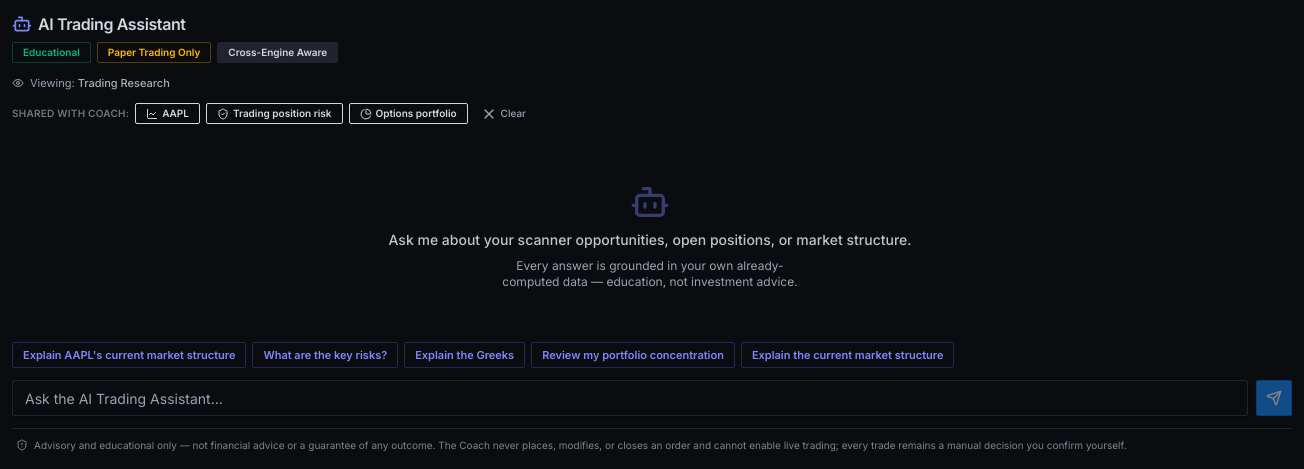
Test: TradingCoachWorkspace — context display and removal › clicking Clear in the context panel removes the optional focus (and its chip)
expect the element with test id "trading-coach-context-chip-symbol" is shown: met, box [135,103,200,124]
Click the button with test id "button-trading-coach-clear-context": (503,114) [474,98,533,130]
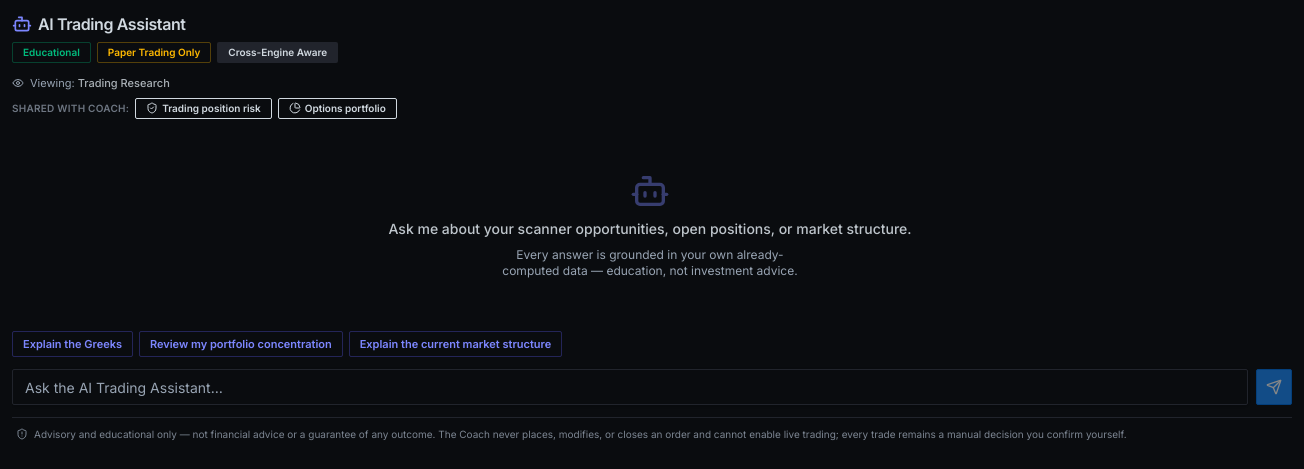
expect the element with test id "trading-coach-context-chip-symbol" is gone: met
